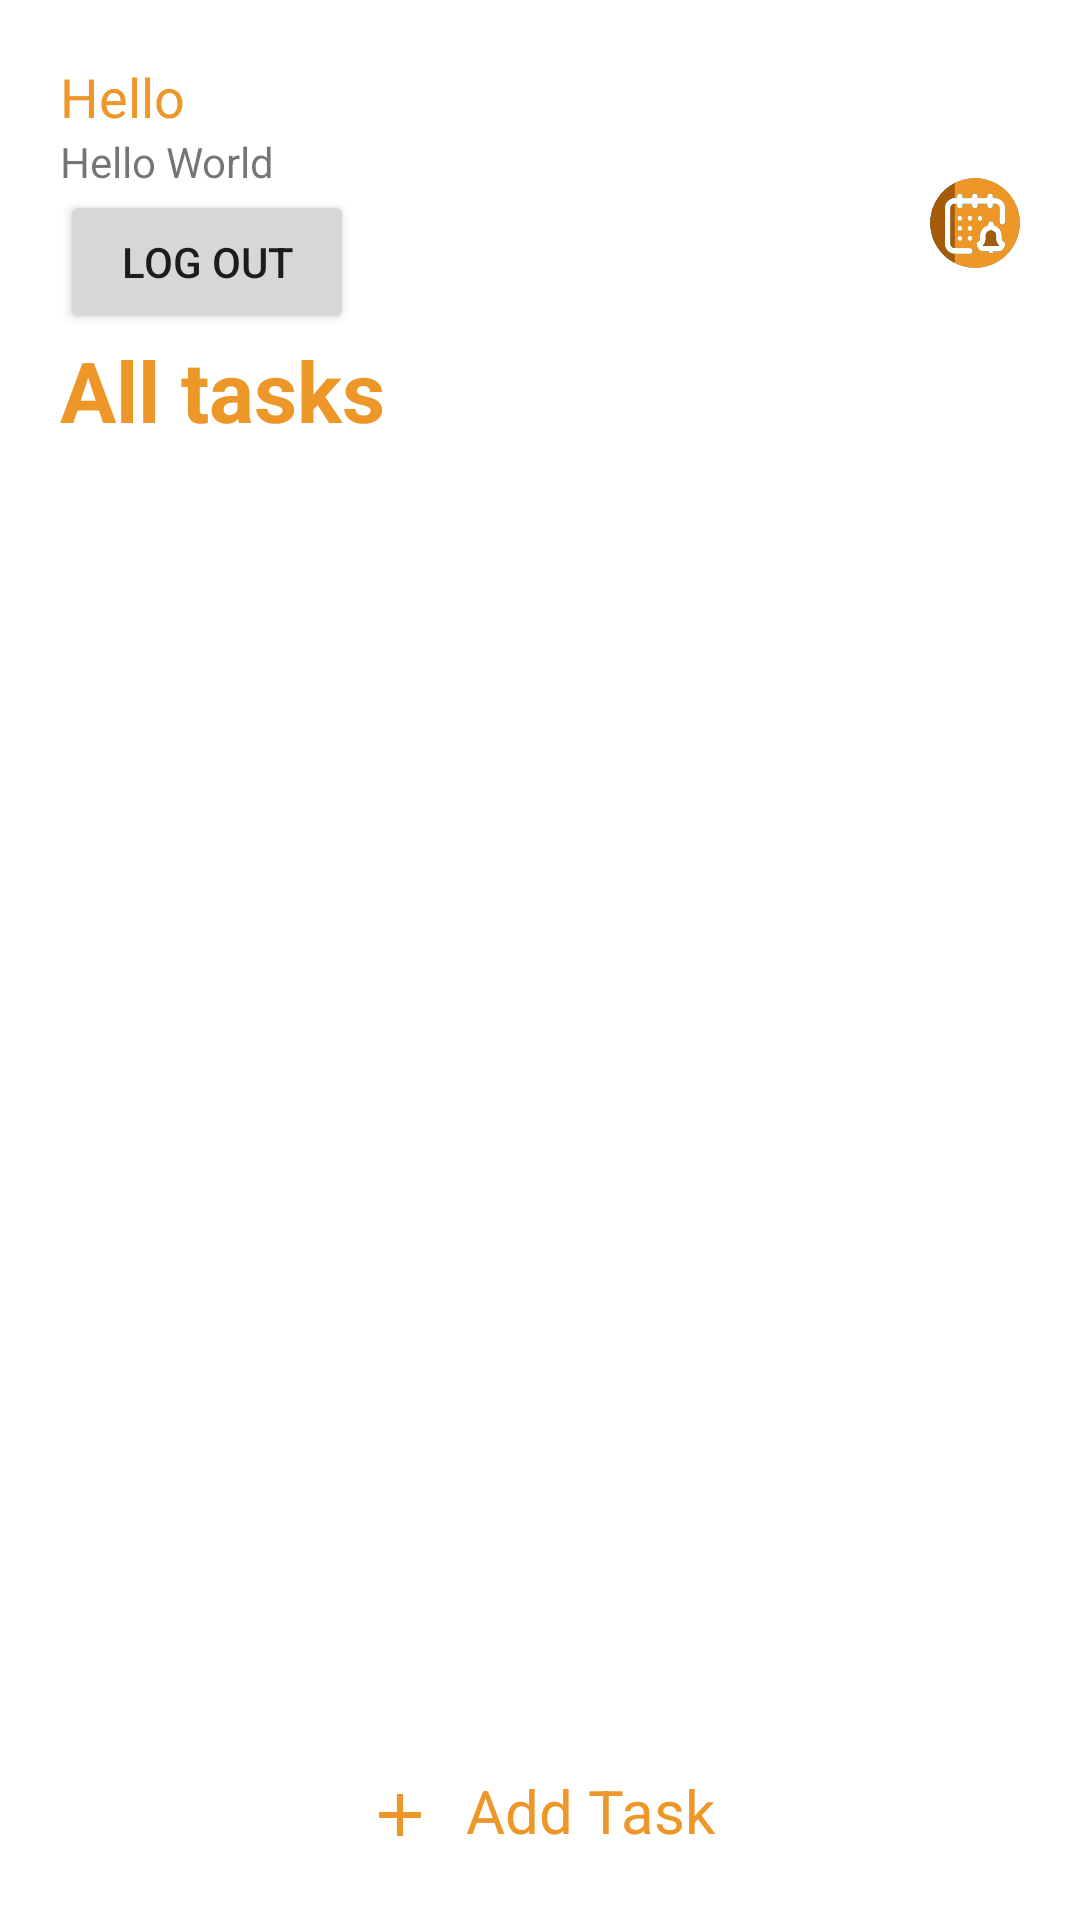

Icon click points for this 1080*1920 phone screenshot, format [x,y]:
calendar: [975,223]
